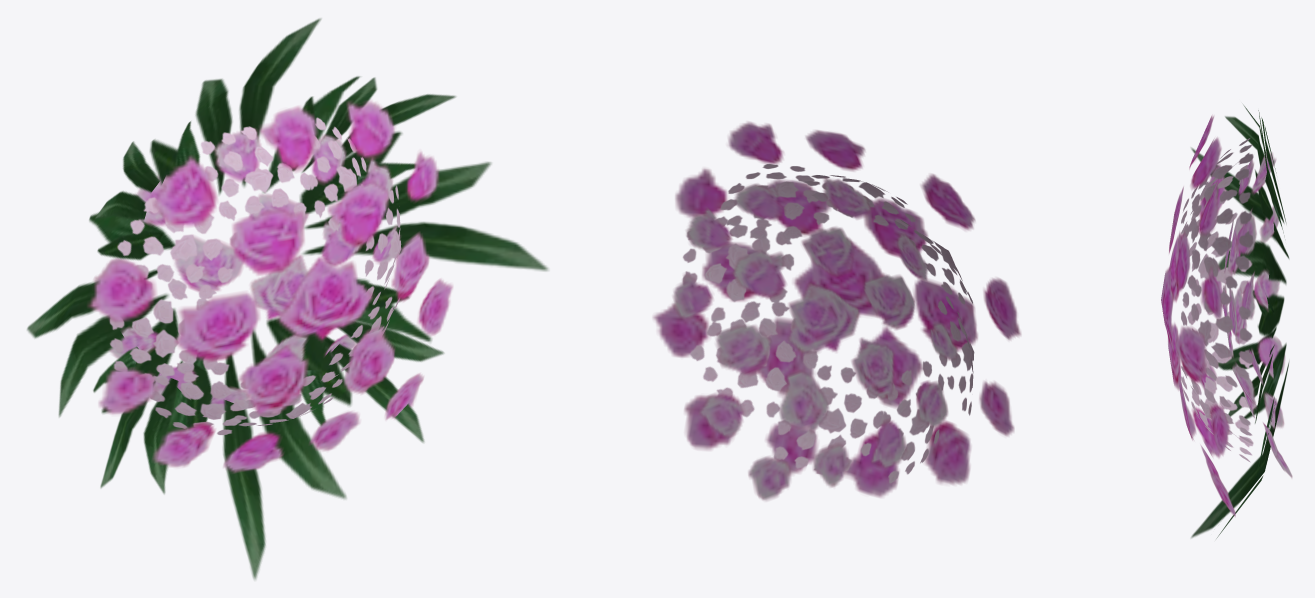
The picture shows the model from 3 angles, left to right: view 1: azimuth 30°, elevation 25°; view 2: azimuth 150°, elevation 25°; view 3: azimuth 270°, elevation 25°; orthographic projection. The views are drawn at different scales.
Visible parts, largest first — view 1: model_Object109; view 2: model_Object109; view 3: model_Object109.
Part boxes in pixels (x1,y1,x2,y2): model_Object109: [27, 18, 548, 579]; model_Object109: [653, 121, 1021, 500]; model_Object109: [1161, 106, 1292, 538].
Bounding box in the file's own units: 0.5813 × 0.5813 × 0.139.
Materials: 4 (4 with a texture image).
